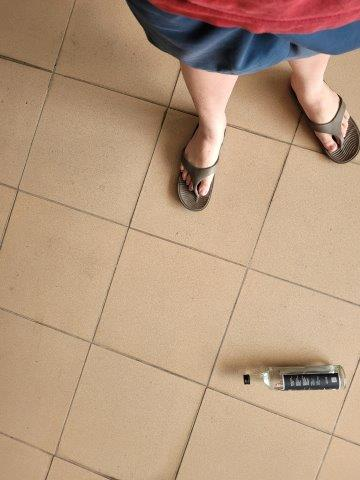botolkaca: (244, 364, 348, 394)
